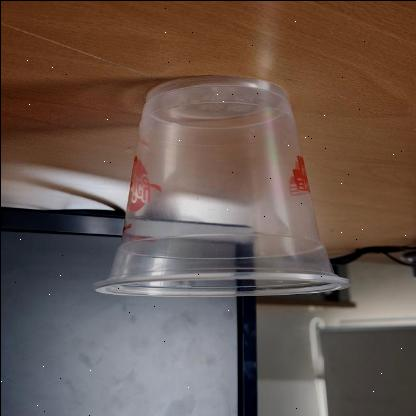Others: (90, 74, 350, 298)
